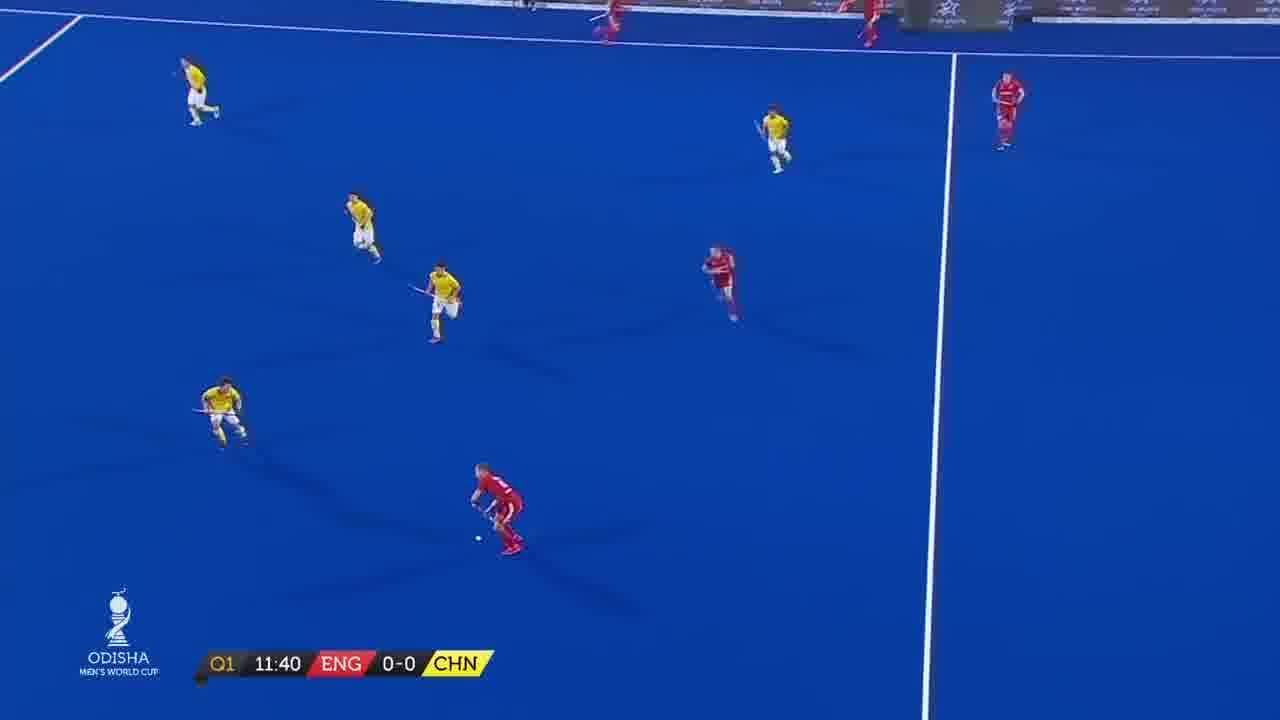ball: (466, 530, 488, 548)
